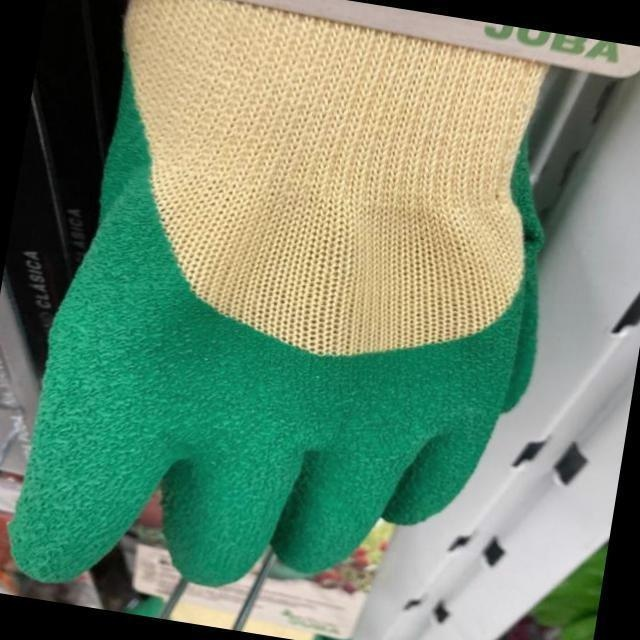Guantes: (4, 0, 552, 589)
